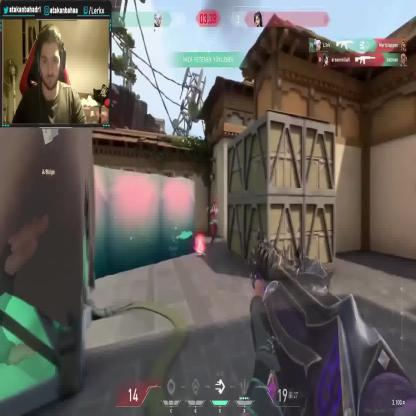enemy: (209, 201, 218, 245)
enemy_head: (212, 200, 217, 208)
